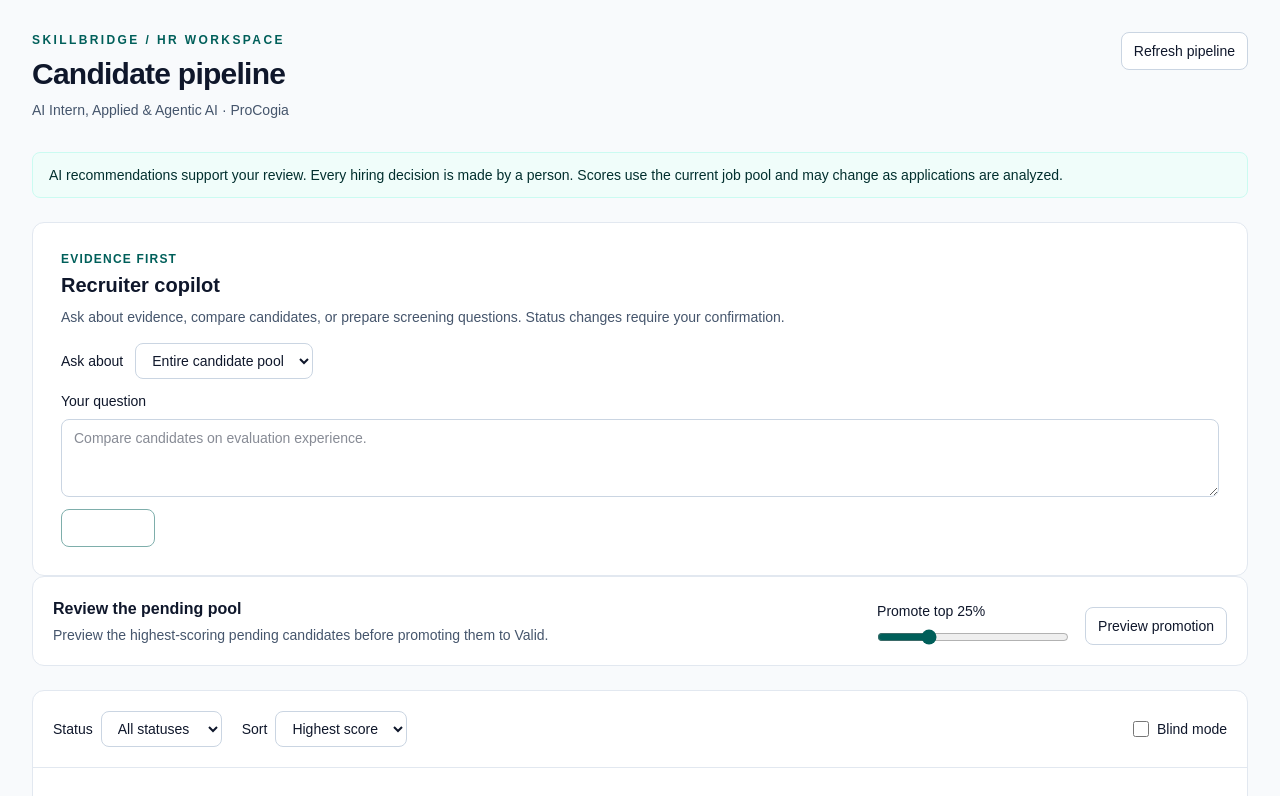
HR pipeline › shows a retryable API failure and handles an empty pipeline
Click the button "Refresh pipeline": (1184, 51) left=1121, top=32, right=1248, bottom=70
(page scrolled)
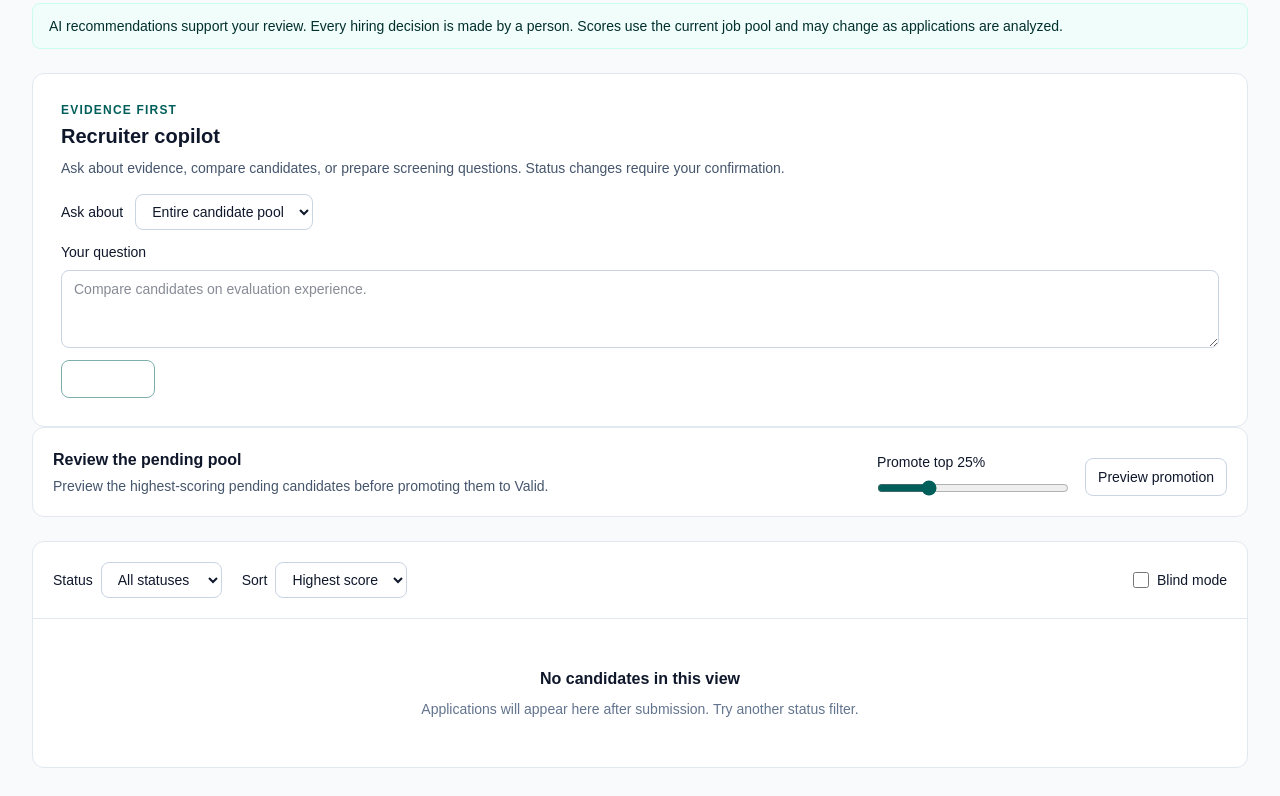
Expected: the heading "No candidates in this view" is shown, left=540, top=670, right=740, bottom=687
